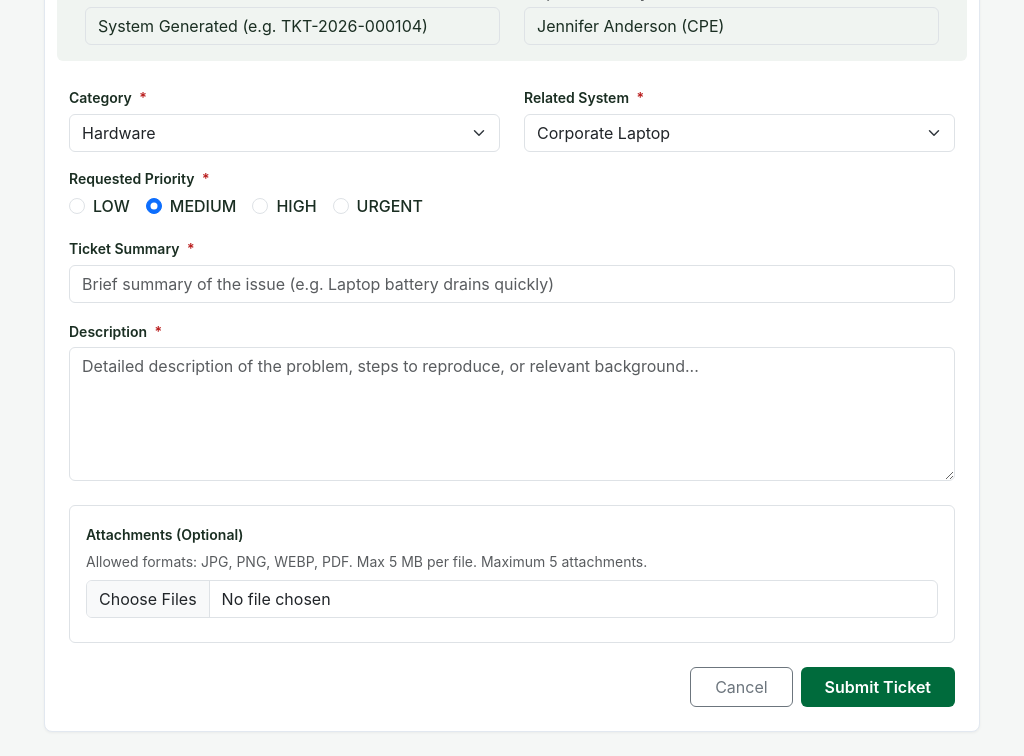
it: Lab 02 - CreateTicket UI Component Tests › should show inline field validation errors when submitting empty required fields
The width and height of the screenshot is (1024, 756).
(page scrolled)
Click the button with test id "submit-ticket-btn".
click(878, 687)  # box x1=801 y1=667 x2=955 y2=707
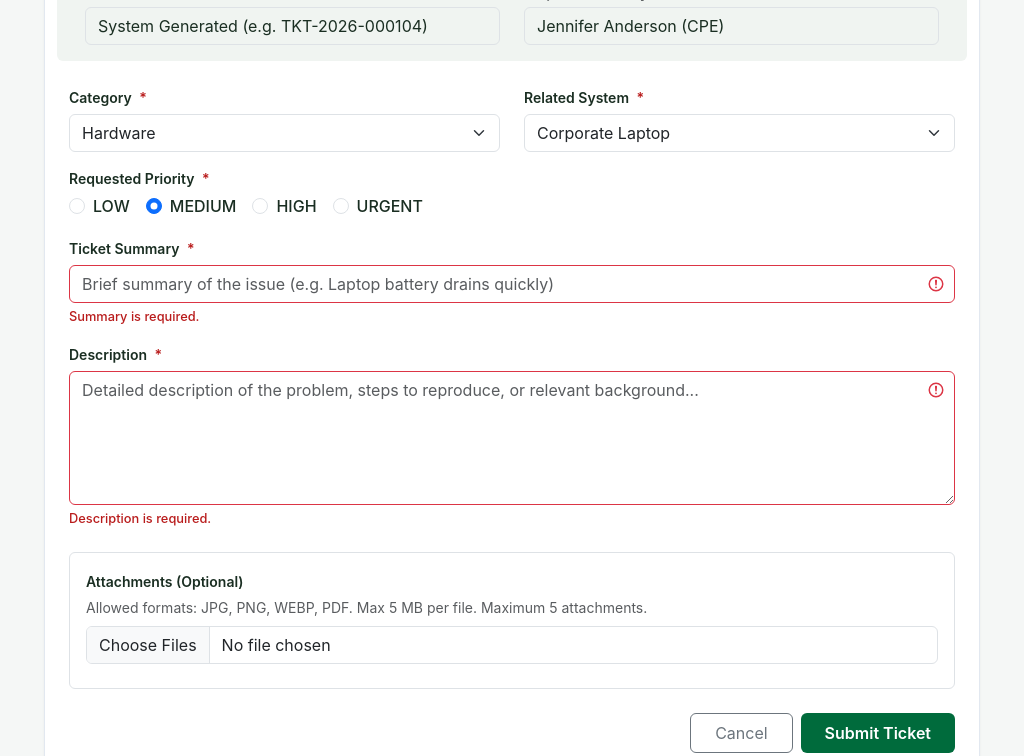
Check: the text with test id "summary-error" reads "Summary is required.", box x1=69 y1=309 x2=200 y2=324
Check: the text with test id "description-error" reads "Description is required.", box x1=69 y1=510 x2=211 y2=526
